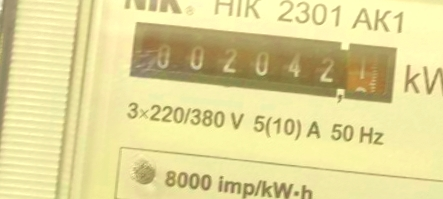0: (152, 41, 173, 72), (186, 43, 206, 75), (251, 49, 271, 80)
1: (353, 53, 369, 85)
2: (316, 55, 336, 86), (219, 47, 239, 77)
4: (284, 50, 304, 83)
screen: (123, 19, 402, 114)
